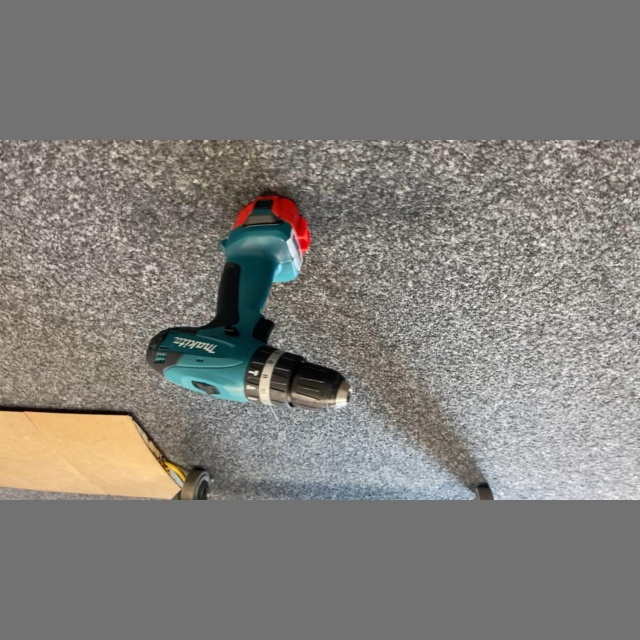drill: (142, 190, 359, 417)
